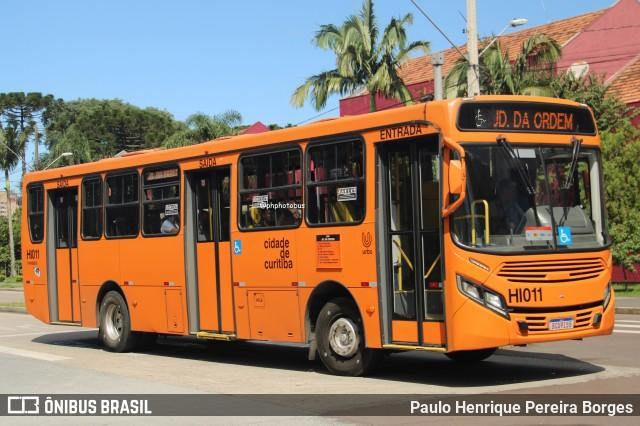JD DA ORDEM: (489, 108, 575, 135)
